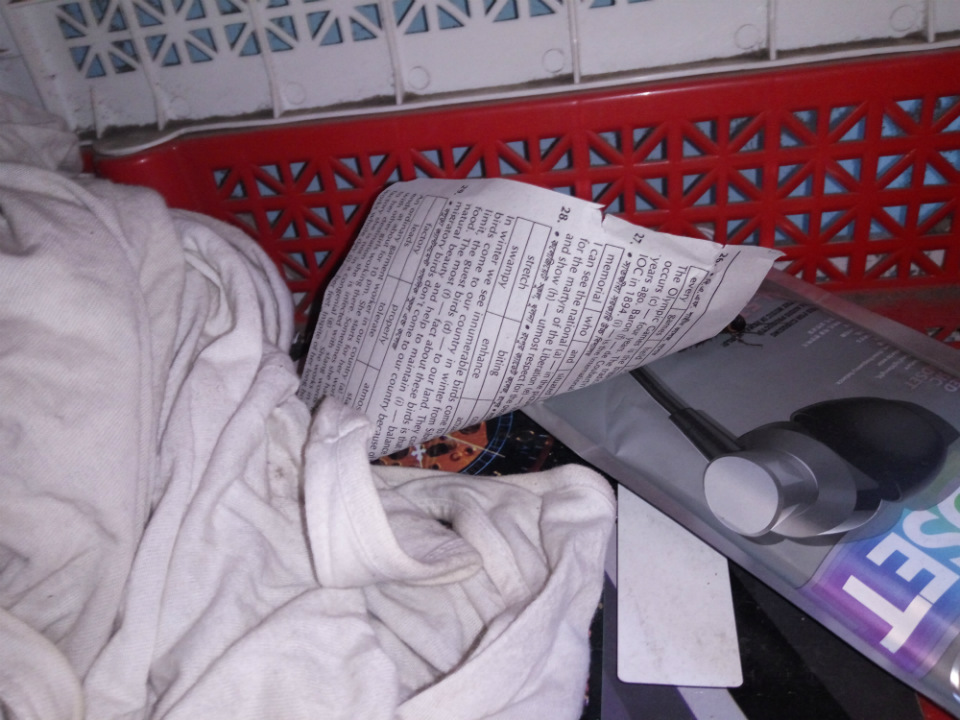cockroach: (725, 305, 779, 362)
